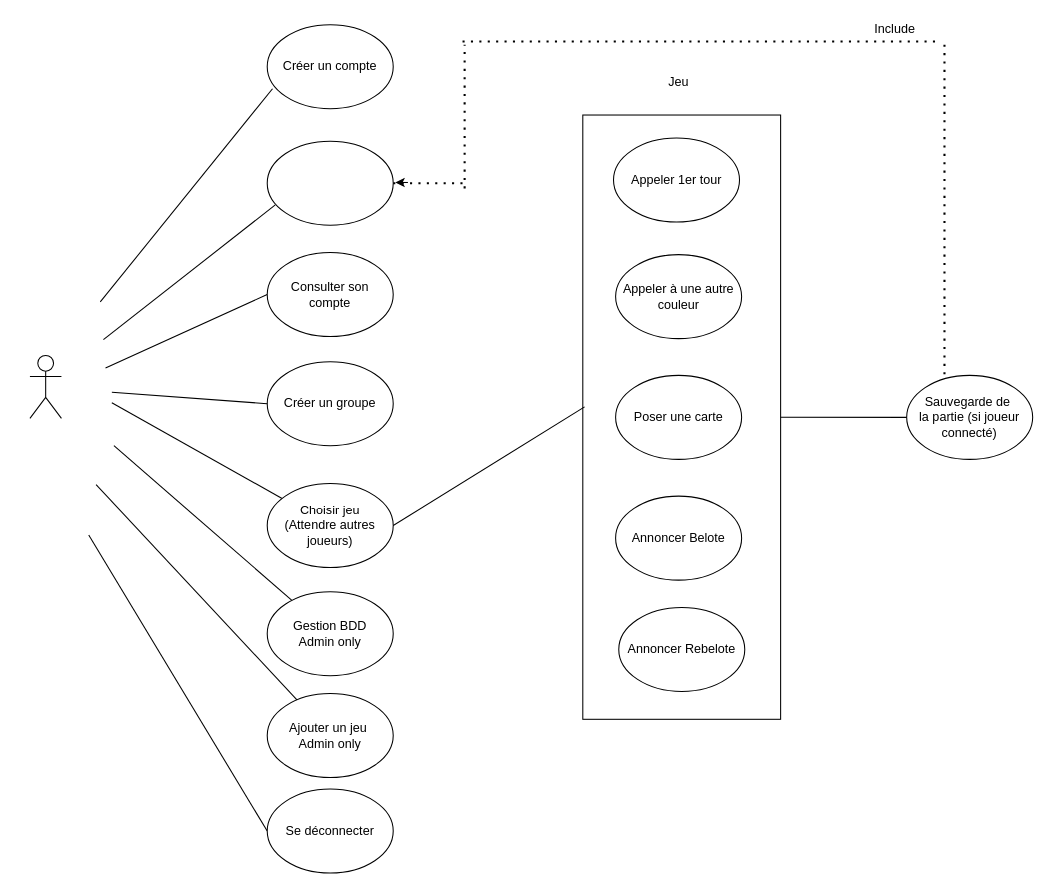
Some shapes in this 1051 by 891 pixel diagram are drawn without their labels. The shapes that lost their labels are listed below. From the top down, each one's centre as x and y in pixels, then its label:
point 329,182: Se connecter
point 45,386: Utilisateur connecté
